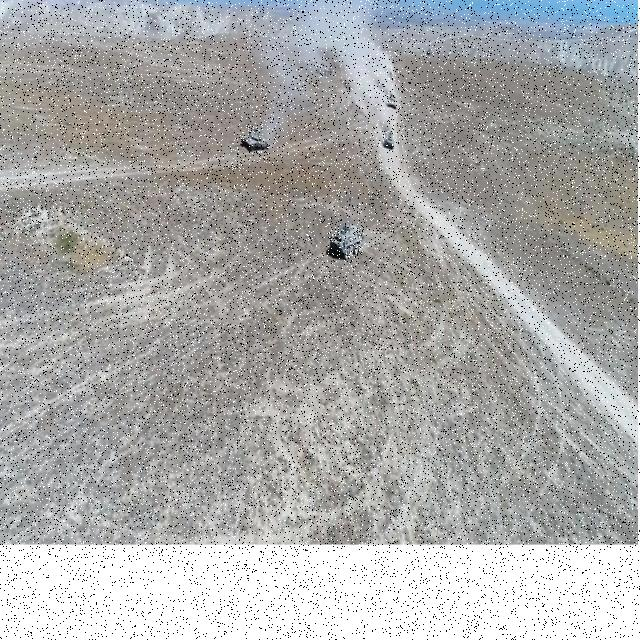MIL_MBT: (326, 220, 364, 262), (233, 126, 270, 155), (382, 128, 397, 150)
